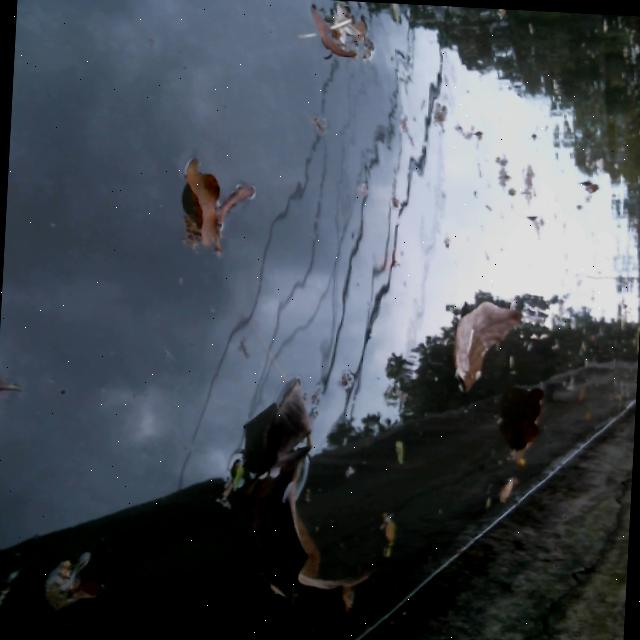Big-leaf: (265, 464, 353, 607), (234, 374, 316, 483), (441, 297, 525, 396), (498, 387, 558, 469), (175, 162, 225, 249)
Small-leaf: (25, 548, 110, 609), (301, 10, 365, 62), (218, 178, 262, 232), (372, 509, 406, 562), (571, 177, 602, 216), (0, 376, 30, 410), (387, 384, 414, 420), (428, 101, 451, 143), (384, 437, 413, 468), (0, 574, 17, 621), (494, 475, 520, 505), (304, 111, 331, 139)
